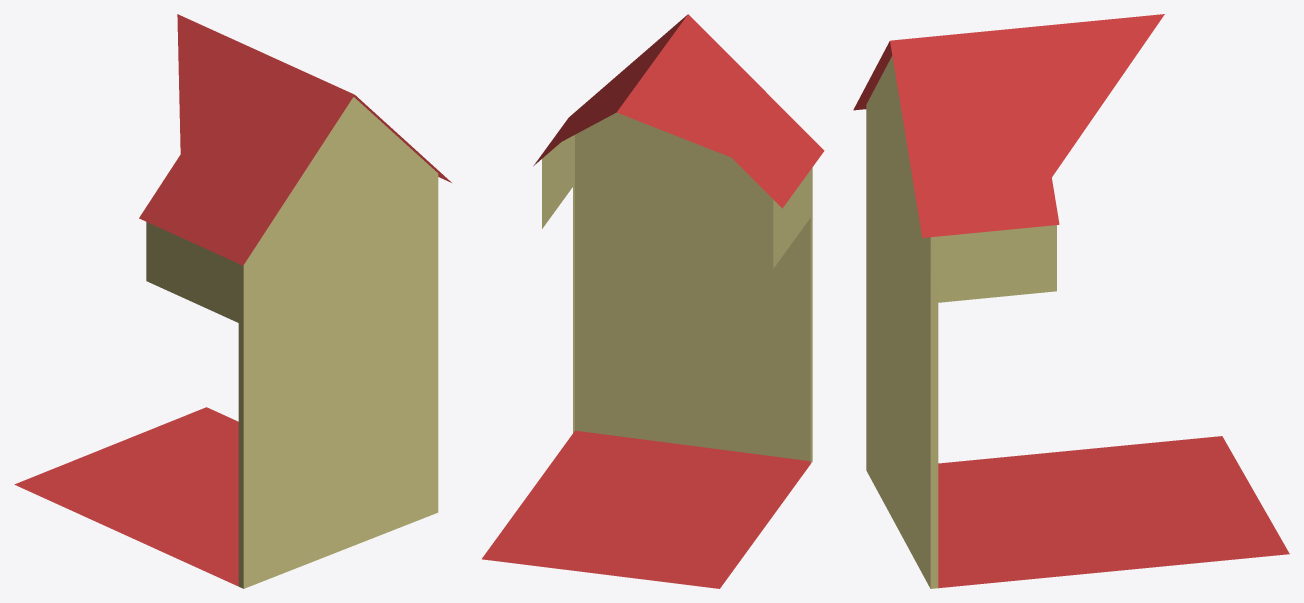
3 views of the same model, side by side, from view 1: azimuth 30°, elevation 25°; view 2: azimuth 150°, elevation 25°; view 3: azimuth 270°, elevation 25° (orthographic). The views are drawn at different scales.
Size of the model in its own units: 8.46 by 9.85 by 12.3.
